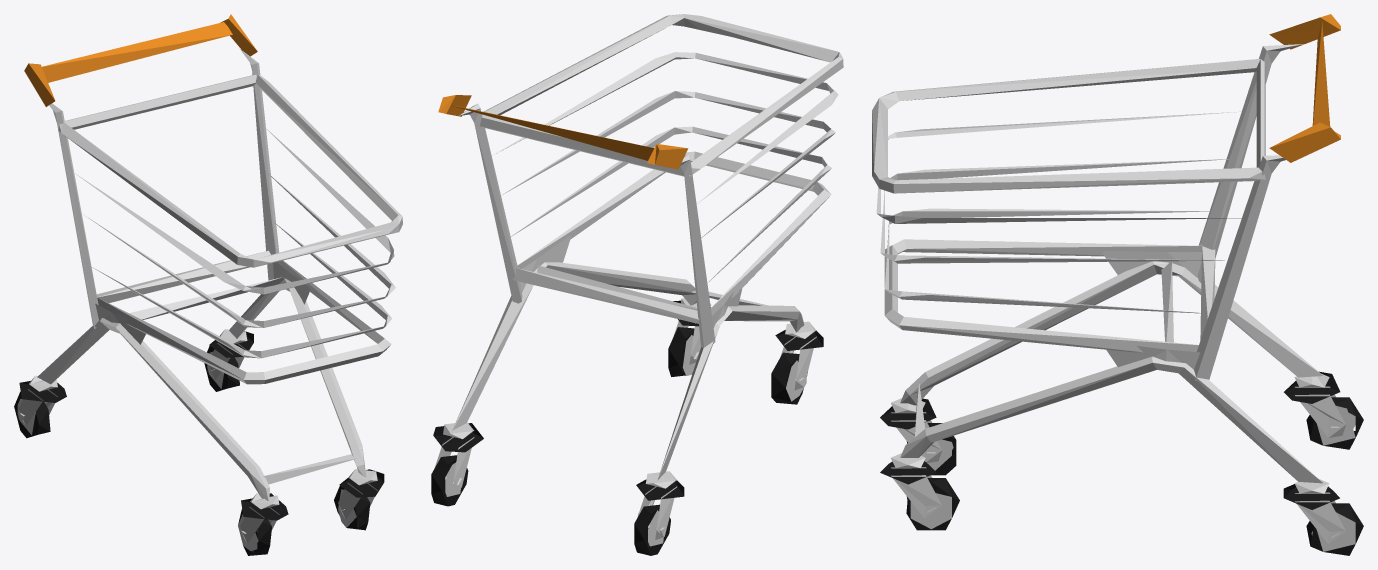
File: carrito.glb
The picture shows the model from 3 angles, left to right: view 1: azimuth 30°, elevation 25°; view 2: azimuth 150°, elevation 25°; view 3: azimuth 270°, elevation 25°; orthographic projection. The views are drawn at different scales.
Visible parts, largest first — view 1: Einkaufswagen_0; view 2: Einkaufswagen_0; view 3: Einkaufswagen_0.
Boxes of the visible parts, x1=… form: Einkaufswagen_0: x1=14, y1=14, x2=402, y2=555; Einkaufswagen_0: x1=431, y1=14, x2=843, y2=555; Einkaufswagen_0: x1=872, y1=14, x2=1363, y2=555.
Size of the model in its own units: 0.5602 by 0.8689 by 0.895.
